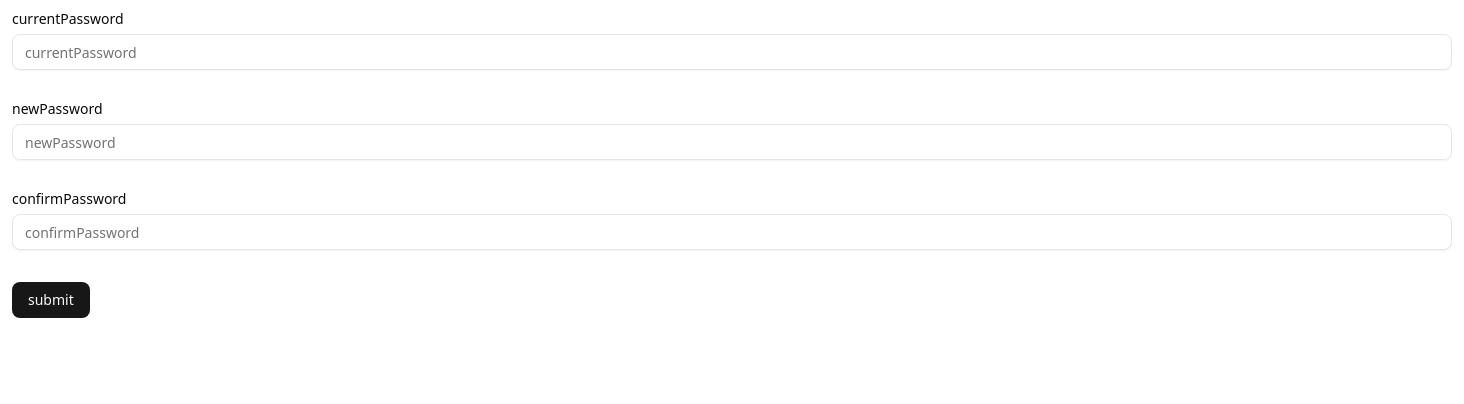
Test: shows passwordNotMatched under confirmPassword when passwords differ
Type "current123" into the password field labelled "currentPassword" at {"x": 732, "y": 52}, box [12,34,1452,70]
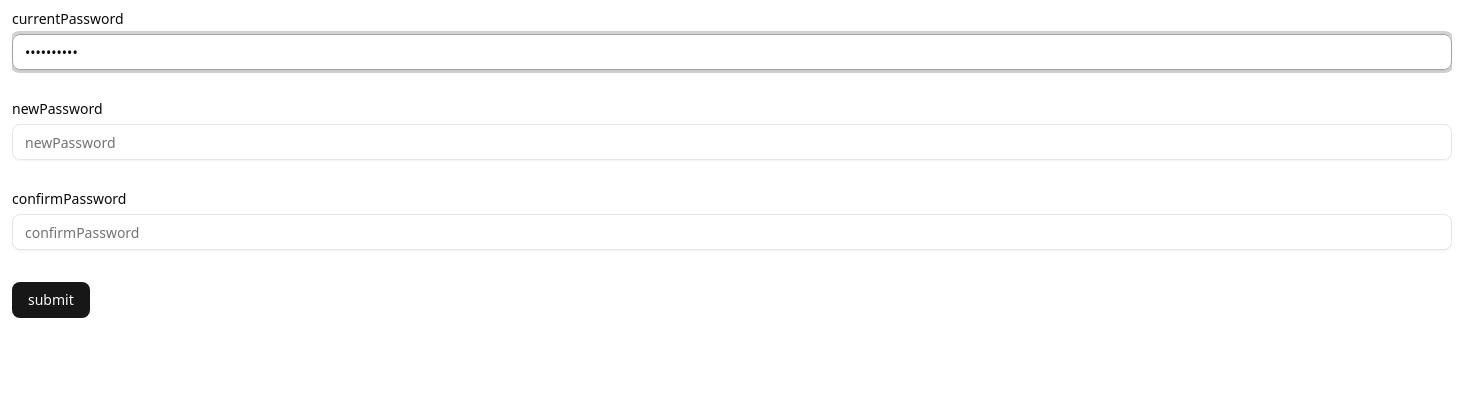
Type "new123" into the password field labelled "newPassword" at {"x": 732, "y": 142}, box [12,124,1452,160]
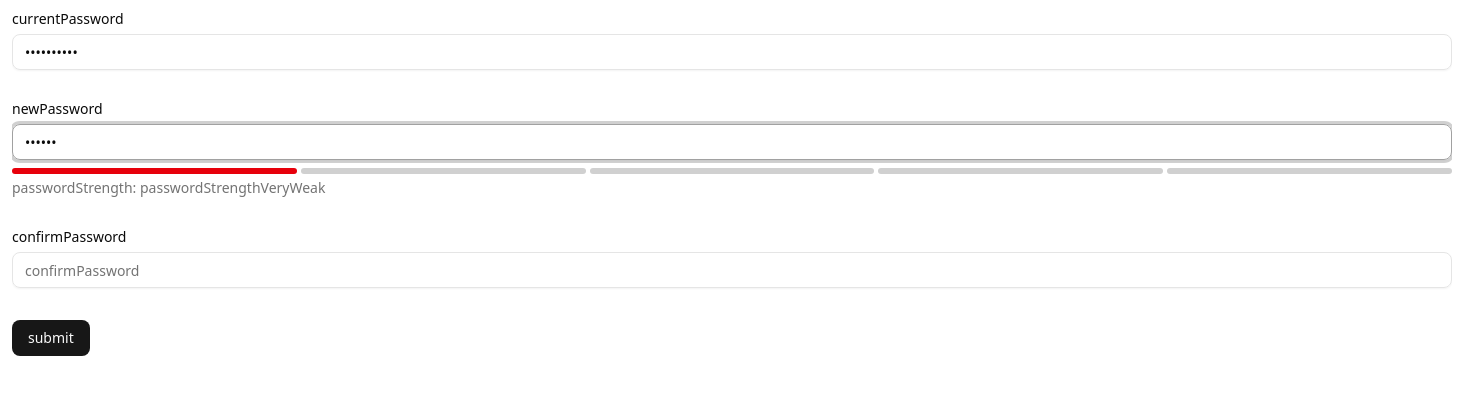
Type "different456" into the password field labelled "confirmPassword" at {"x": 732, "y": 270}, box [12,252,1452,288]
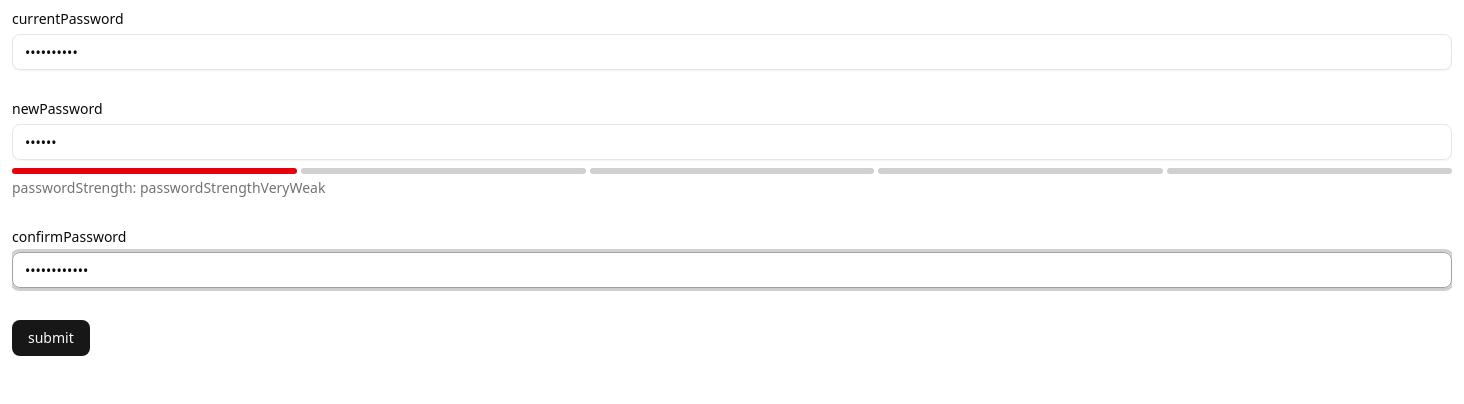
Click the button "submit" at {"x": 51, "y": 338}, box [12,320,90,356]
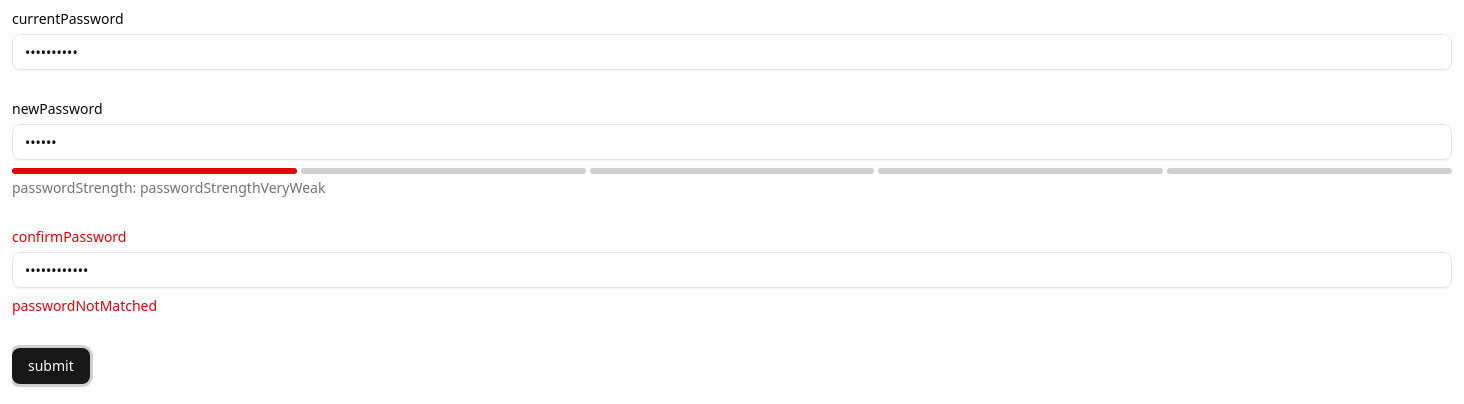
Check: the text "passwordNotMatched" is shown, box [12,296,157,315]
